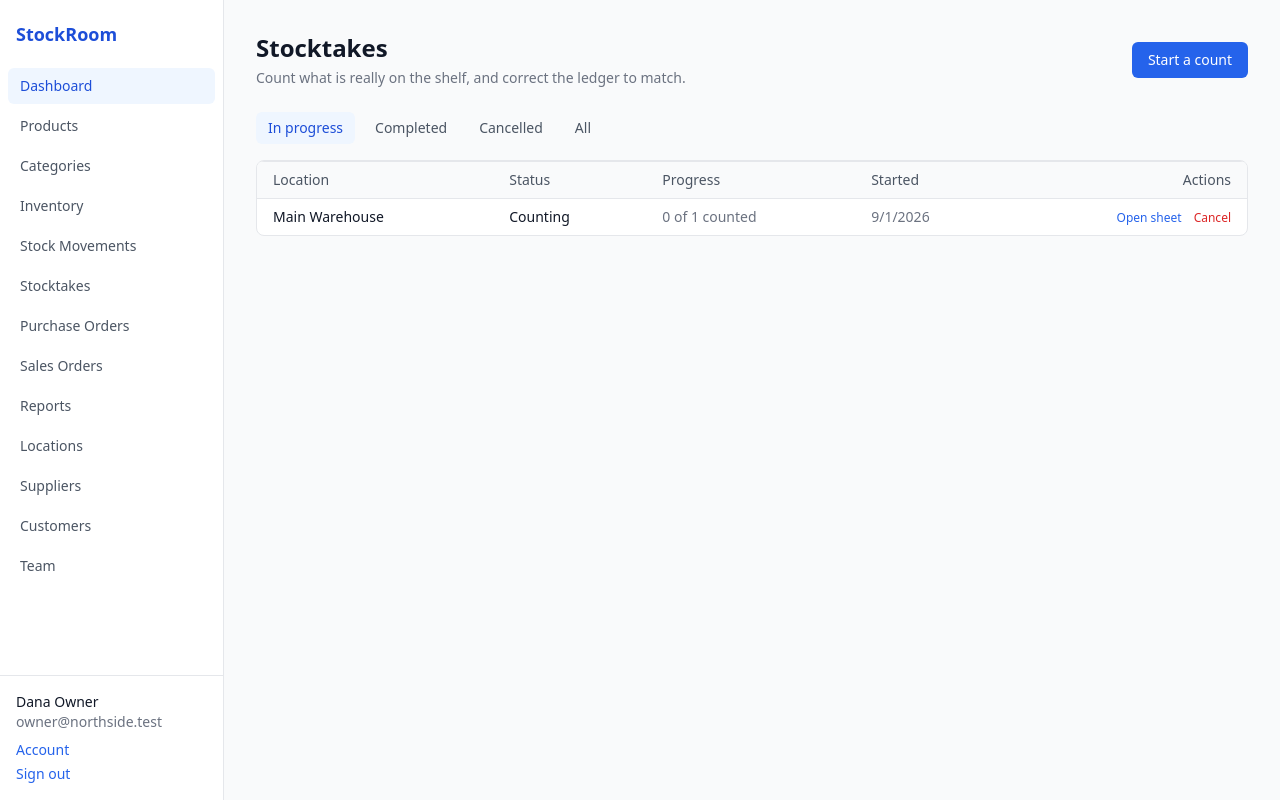
Test case: StocktakesPage starting a count › surfaces the API's reason for refusing a second count
The image size is (1280, 800).
Expected: the text "Main Warehouse" is shown, [257,198,493,235]
Click the button "Start a count". click: [1190, 60]
box: [1132,42,1248,78]
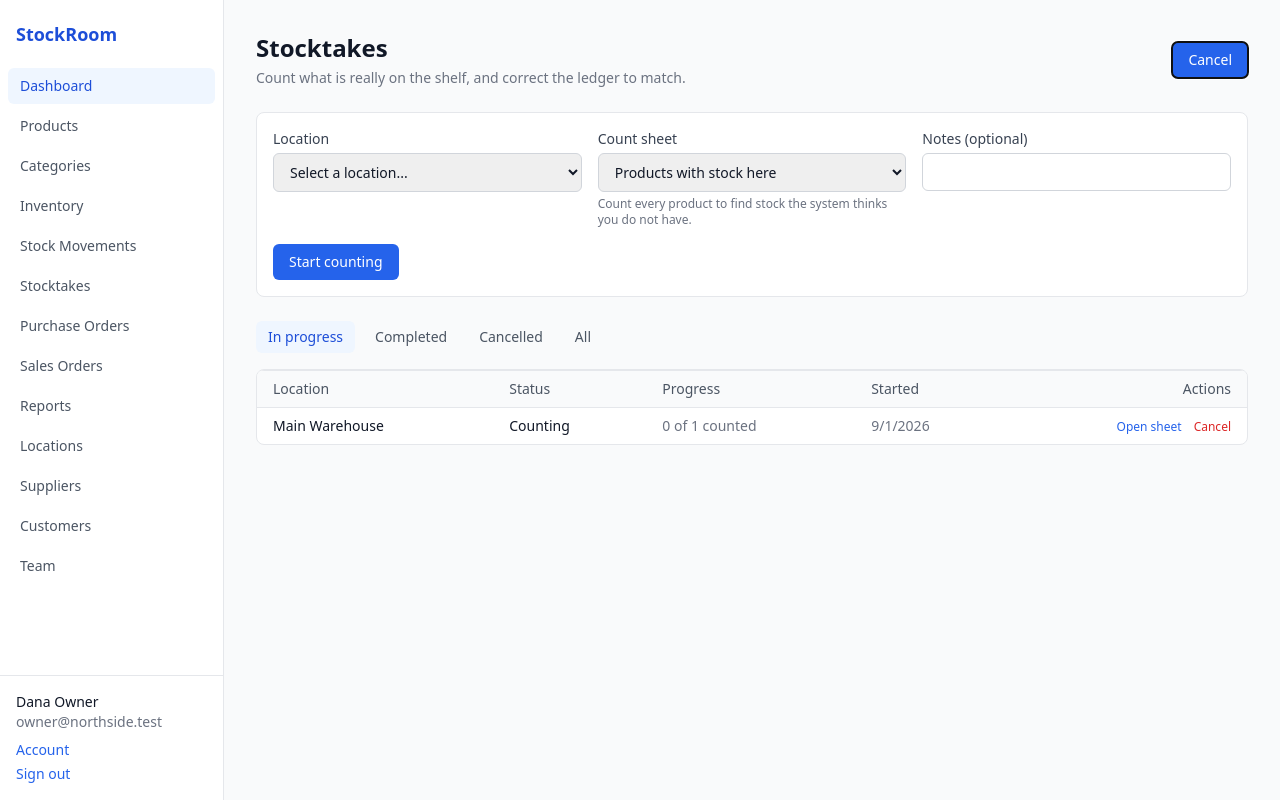
Select "Main Warehouse" in the dropdown labelled "Location". click: [427, 172]
box: [273,153,582,192]
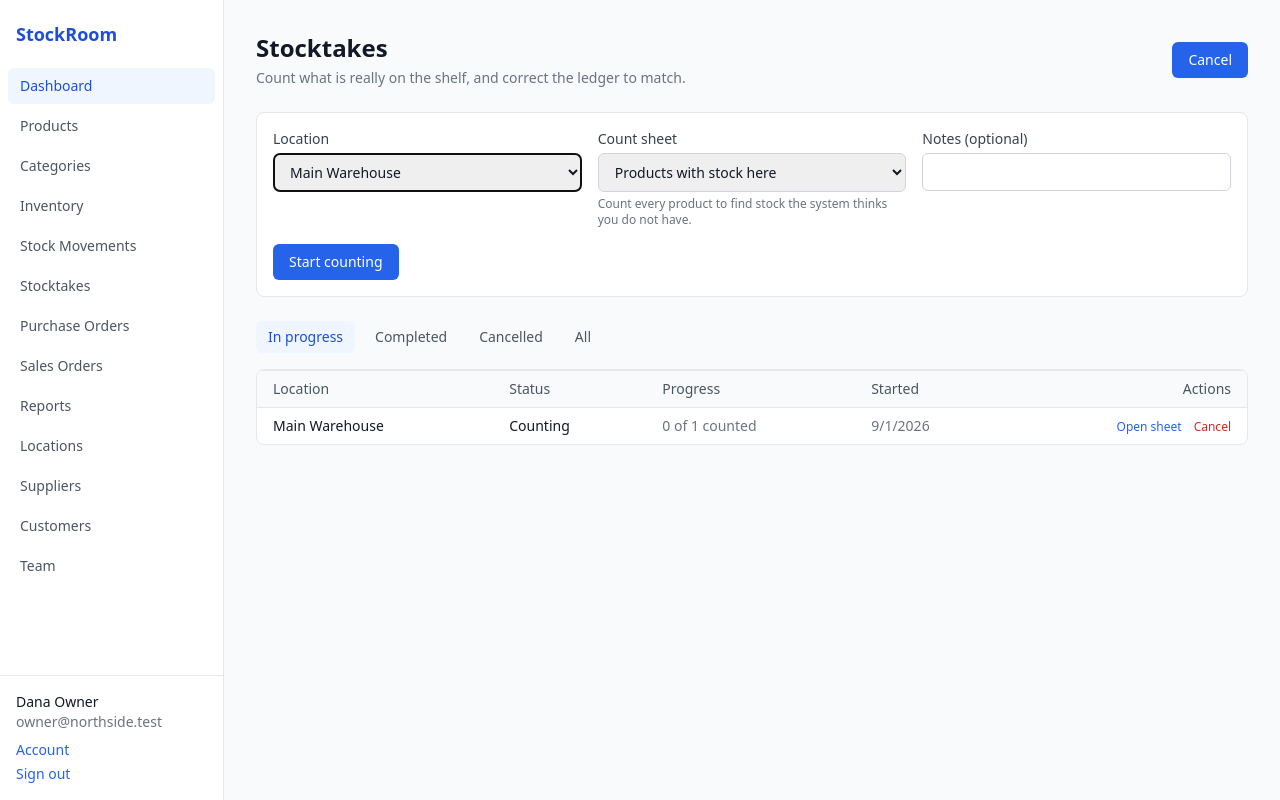
Click the button "Start counting". click: [336, 262]
box: [273,244,398,280]
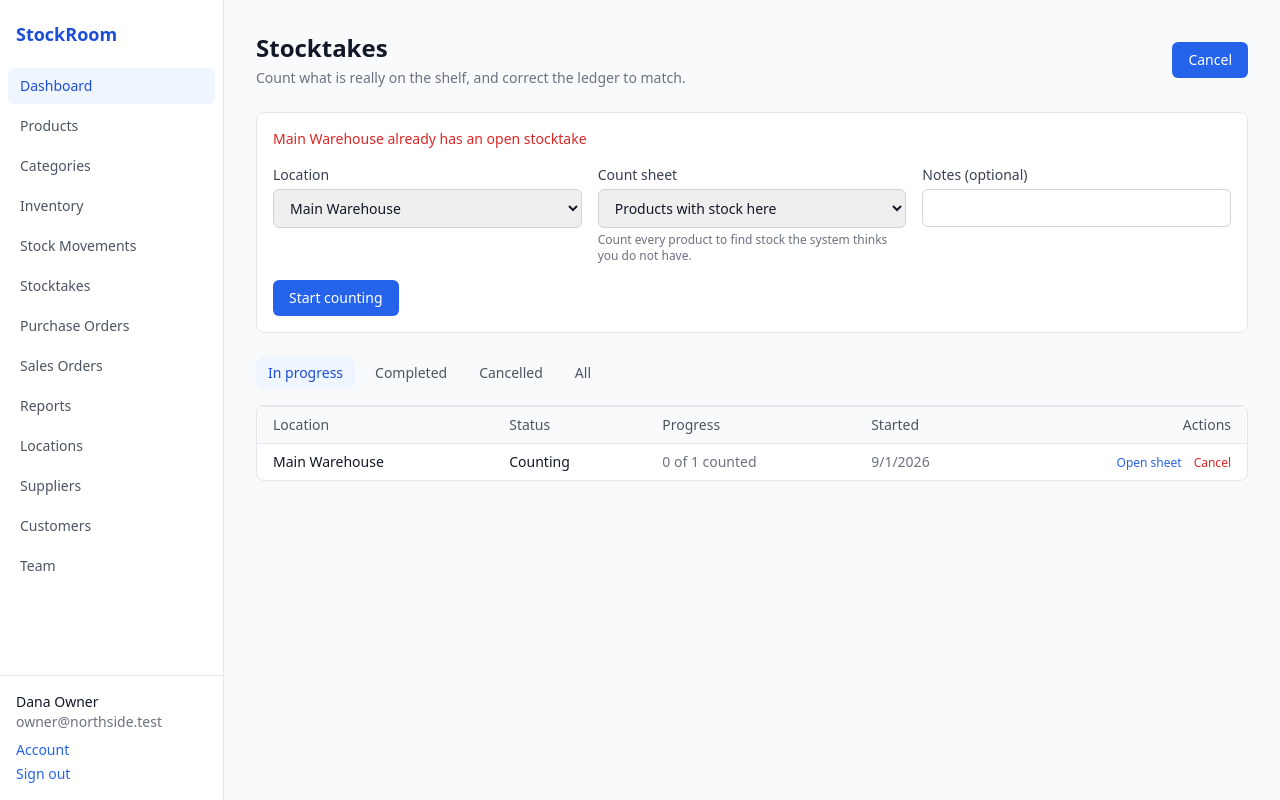
Now the message shows "already has an open stocktake", box [273,129,586,148]
